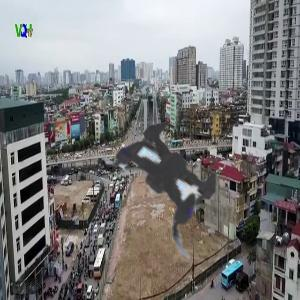drone: (42, 44, 291, 293)
